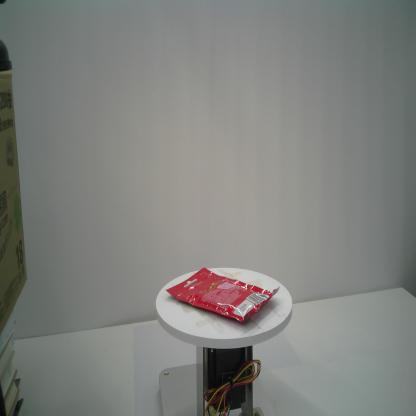Candy: (165, 267, 281, 324)
